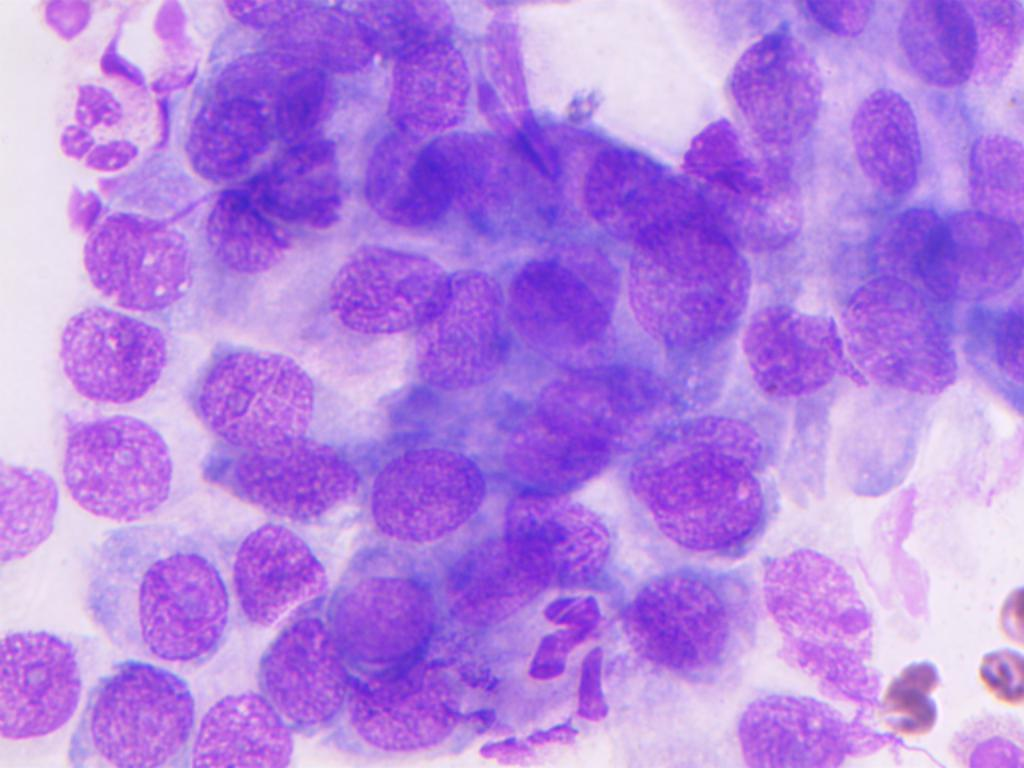artifact: (476, 586, 613, 763), (476, 0, 547, 117), (973, 581, 1024, 714), (890, 652, 956, 738), (24, 0, 113, 49), (963, 724, 1024, 768)
epithelial: (179, 33, 335, 191), (494, 366, 681, 488), (599, 113, 739, 275), (631, 412, 779, 559), (762, 528, 881, 709), (93, 519, 238, 666), (621, 216, 748, 353), (507, 243, 627, 384), (214, 419, 372, 522), (53, 403, 186, 524), (407, 253, 519, 393), (833, 274, 960, 396), (186, 339, 326, 446), (350, 117, 470, 240), (510, 119, 624, 245), (321, 231, 452, 340), (726, 686, 900, 768), (498, 476, 612, 597), (68, 210, 206, 308), (826, 86, 925, 222), (860, 194, 958, 326), (347, 658, 489, 749), (429, 531, 554, 633), (618, 563, 736, 669), (81, 660, 197, 767), (727, 31, 829, 151), (736, 295, 842, 410), (941, 281, 1024, 425), (365, 438, 485, 537), (46, 311, 182, 398), (255, 602, 350, 725), (222, 517, 335, 620), (409, 125, 524, 225), (341, 553, 444, 661), (203, 178, 311, 277), (938, 201, 1024, 318), (382, 39, 476, 132), (892, 0, 996, 84), (945, 112, 1024, 222), (2, 627, 85, 729), (183, 691, 294, 767), (0, 459, 64, 584), (346, 4, 463, 68), (783, 0, 883, 41)
neutrophil: (57, 64, 164, 186)
